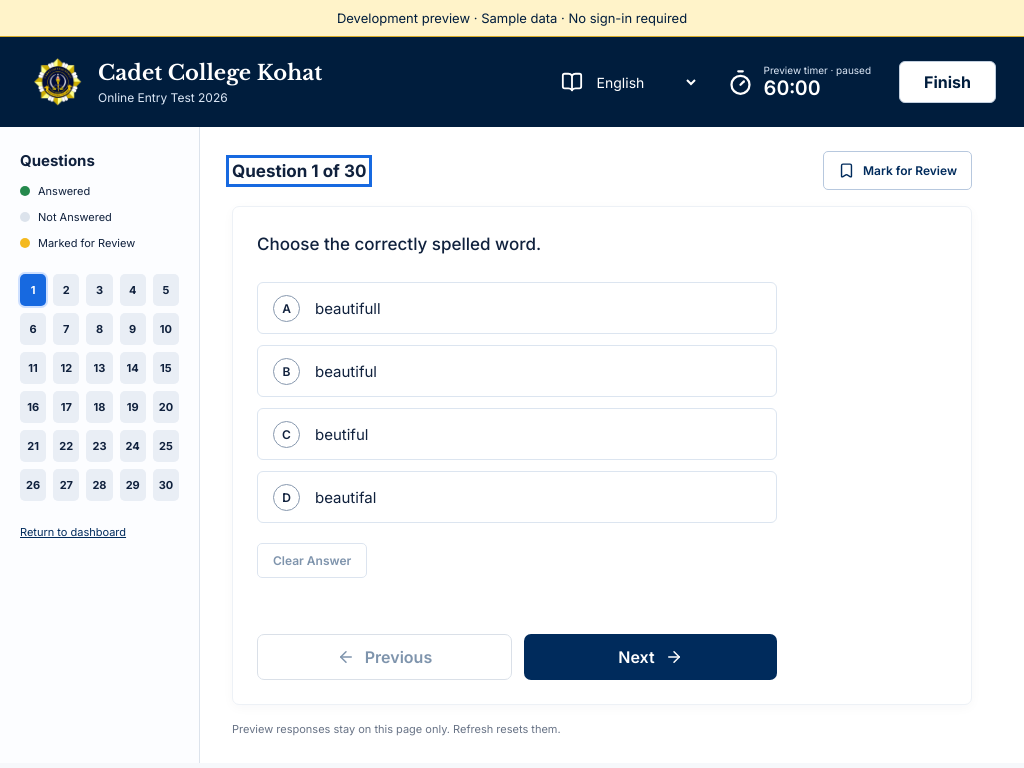
Test case: exam interface preview › preserves short answers and question positions separately when switching subjects
Select "Mathematics" in the dropdown named "Preview subject" at [646, 82], box [593,64,699,100]
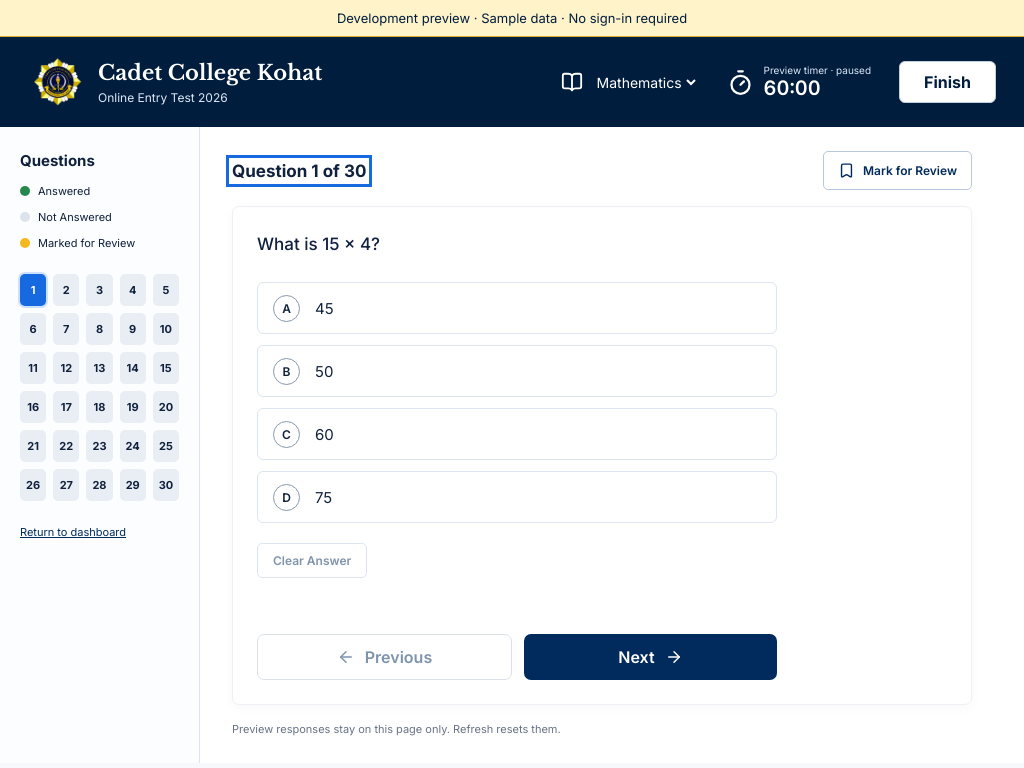
Click the button named "Question 4," at [133, 290], box [120,274,146,306]
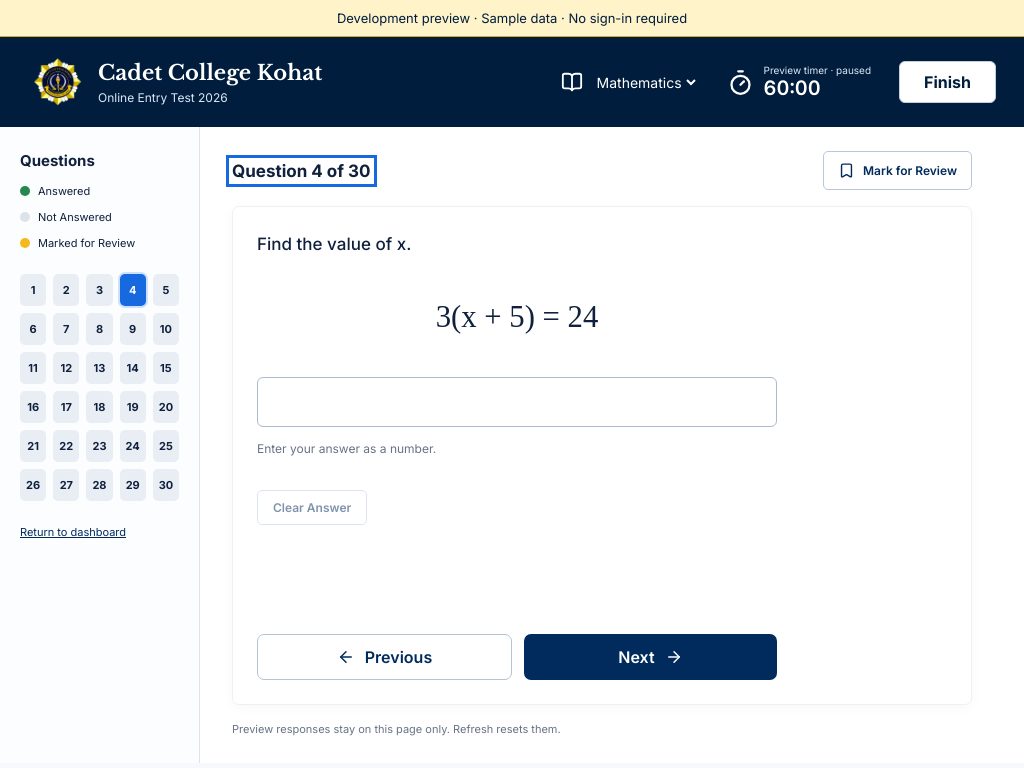
Expected: the text "3(x + 5) = 24" is shown, [436,300,598,334]
Type "3" into the field named "Your answer" at [517, 402], box [257,377,777,427]
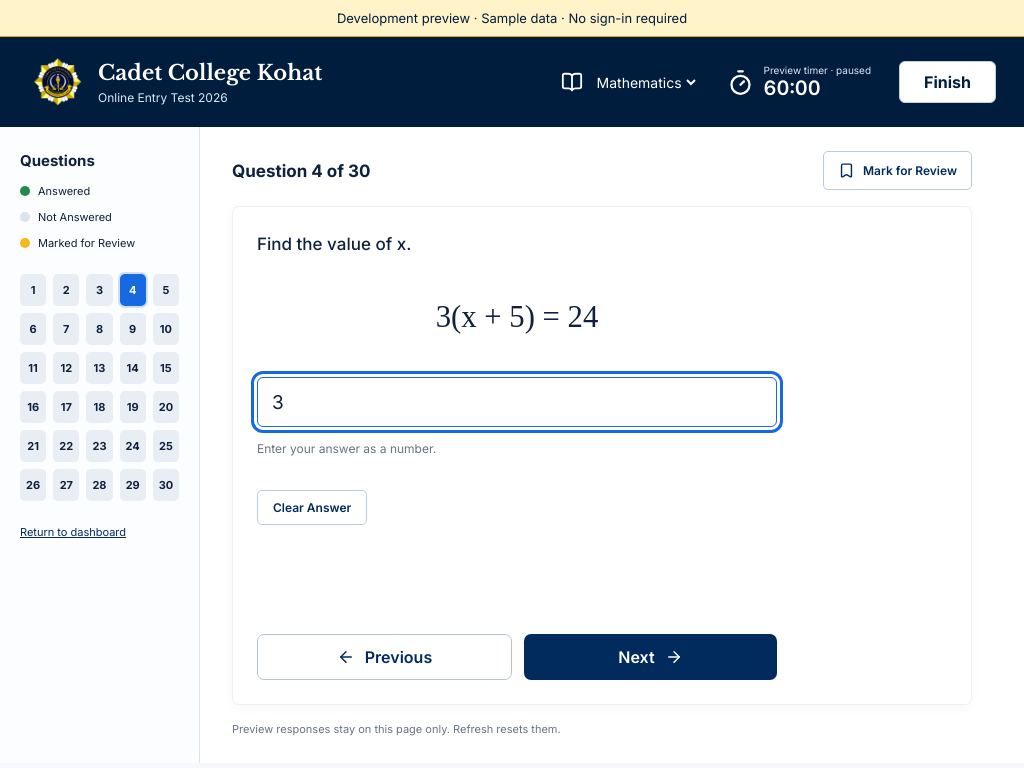
Select "English" in the dropdown named "Preview subject" at [646, 82], box [593,64,699,100]
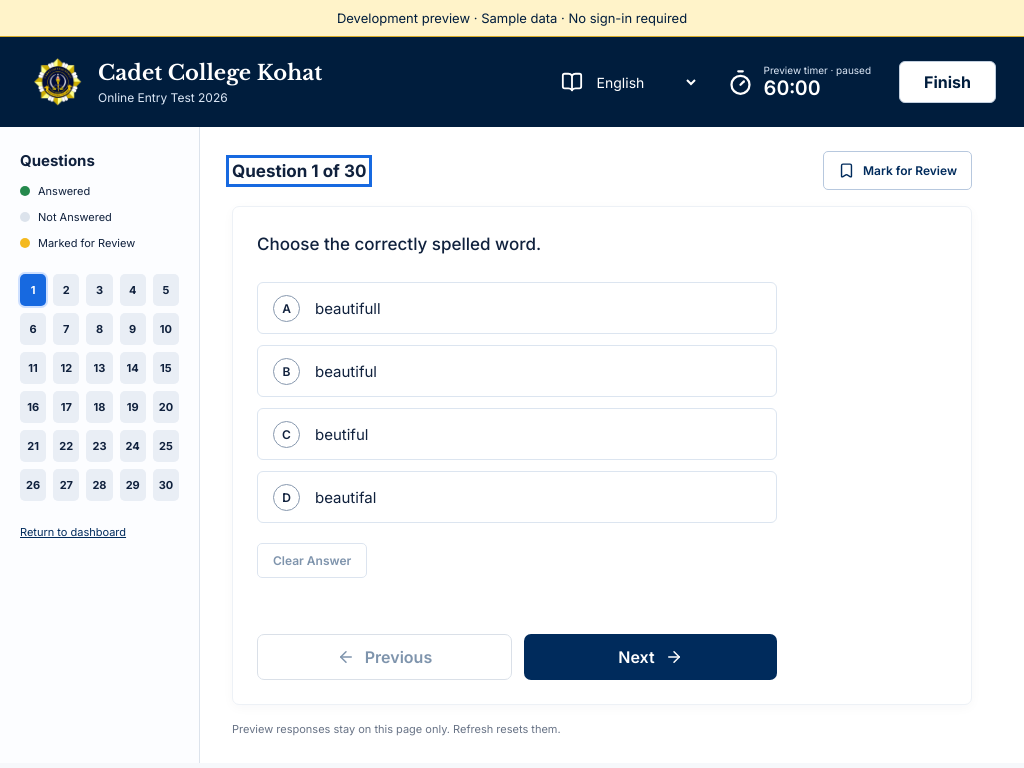
Expected: the heading "Question 1 of 30" is shown, [232,160,366,180]
Select "Mathematics" in the dropdown named "Preview subject" at [646, 82], box [593,64,699,100]
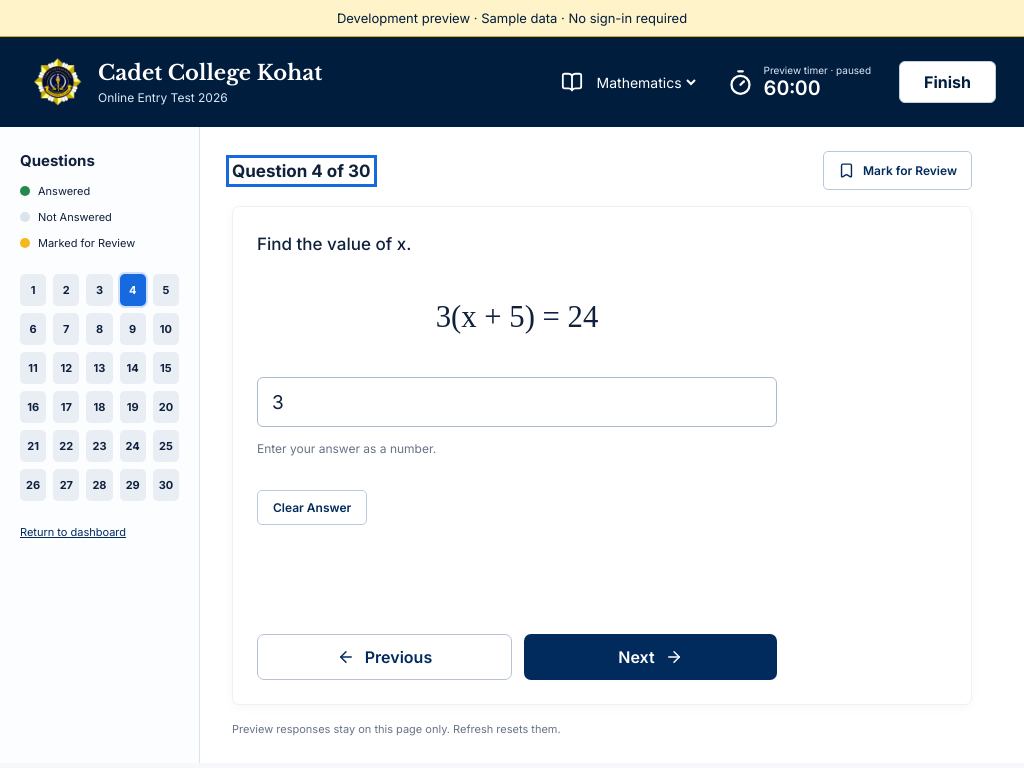
Expected: the text "60:00" is shown, [764,76,821,100]
Expected: the heading "Question 4 of 30" is shown, [232,160,370,180]
Expected: the field named "Your answer" holds "3", [257,377,777,427]
